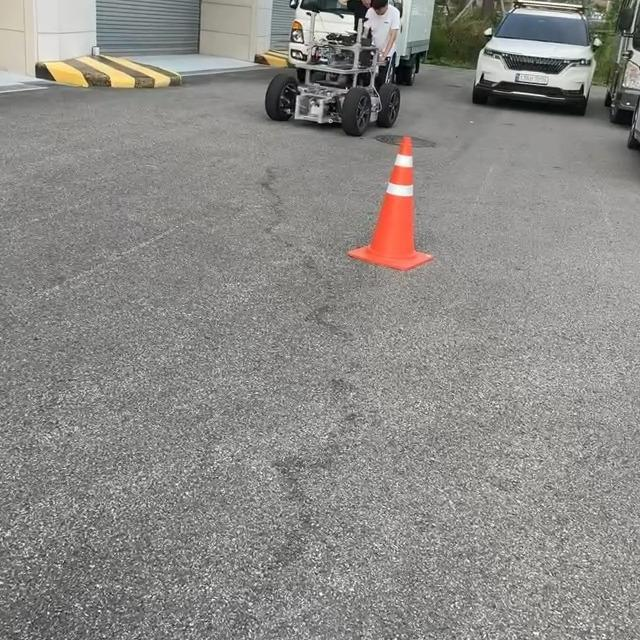fallen_object: (340, 145, 509, 312)
